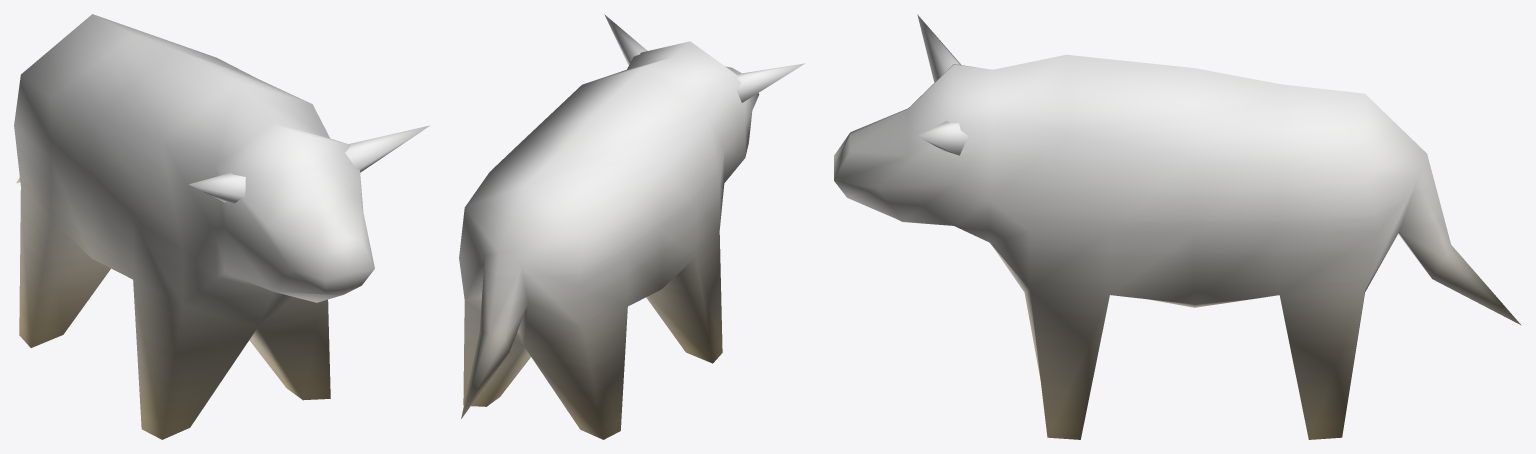
File: SM_Blockout_Cow_01.fbx
The picture shows the model from 3 angles, left to right: view 1: azimuth 30°, elevation 25°; view 2: azimuth 150°, elevation 25°; view 3: azimuth 270°, elevation 25°; orthographic projection. The views are drawn at different scales.
Visible parts, largest first — view 1: SM_Blockout_Cow_01; view 2: SM_Blockout_Cow_01; view 3: SM_Blockout_Cow_01.
Part boxes in pixels (bbox=[...]): SM_Blockout_Cow_01: bbox=[14, 14, 430, 439]; SM_Blockout_Cow_01: bbox=[459, 14, 805, 439]; SM_Blockout_Cow_01: bbox=[834, 14, 1521, 439].
Bounding box in the file's own units: 0.5543 × 0.7218 × 1.32.
